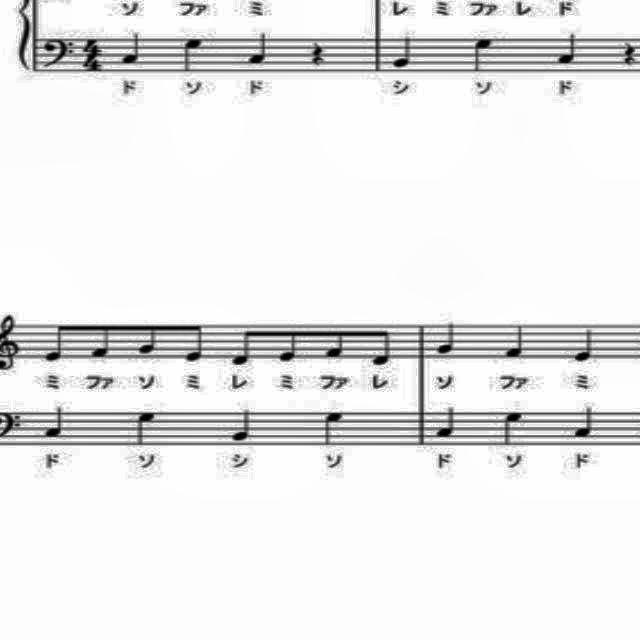Bass-clef: (38, 26, 78, 70)
Eighth-note: (86, 318, 118, 366), (132, 314, 162, 362), (274, 323, 306, 367), (366, 320, 394, 370), (182, 315, 206, 371), (322, 318, 350, 362), (230, 318, 254, 369), (40, 321, 68, 364)
Quarter-note: (498, 406, 530, 450), (118, 25, 150, 67), (572, 321, 600, 367), (230, 399, 258, 445), (499, 324, 531, 364), (389, 33, 418, 75), (431, 404, 462, 442), (132, 407, 160, 449), (246, 30, 274, 70), (180, 36, 208, 76), (435, 322, 465, 358), (42, 402, 70, 440), (321, 408, 347, 448), (573, 404, 599, 441), (470, 38, 498, 72), (554, 32, 580, 68)
Quarter-rest: (304, 38, 330, 66), (620, 38, 640, 66)
